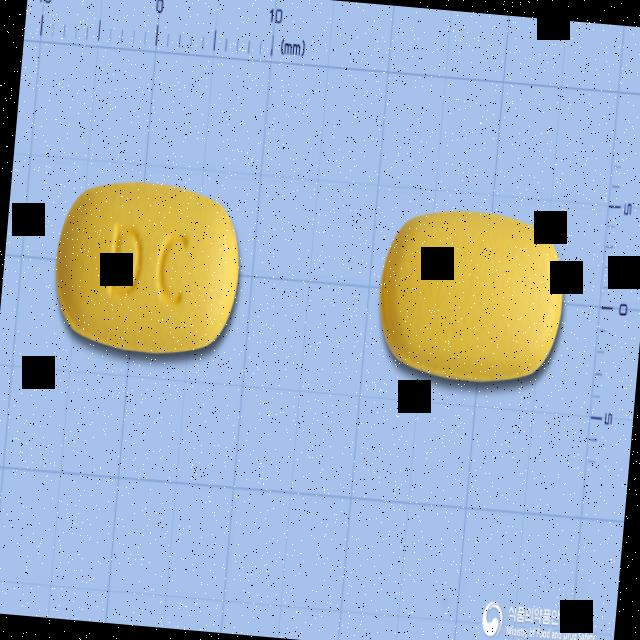Clabicks: (45, 172, 251, 368)
